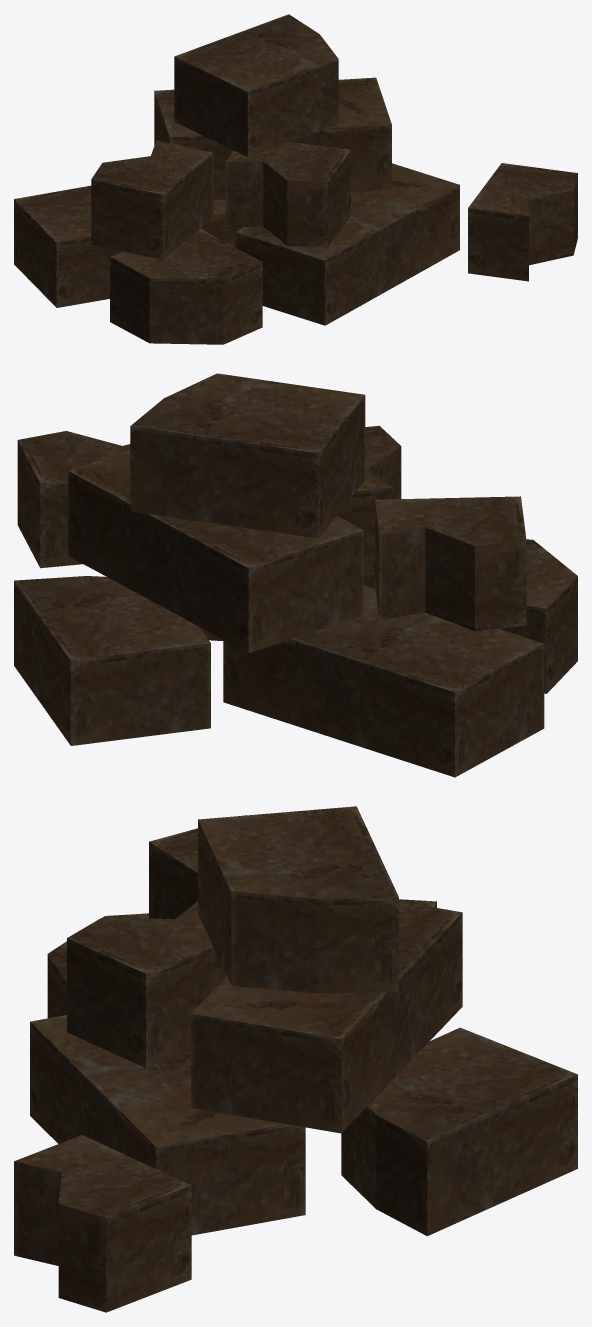
The model's file is bricks_stacked_mx_1_0.glb.
The picture shows the model from 3 angles, top to bottom: view 1: azimuth 30°, elevation 25°; view 2: azimuth 150°, elevation 25°; view 3: azimuth 270°, elevation 25°; orthographic projection. The views are drawn at different scales.
Visible parts, largest first — view 1: bricks_stacked_mx_1_0; view 2: bricks_stacked_mx_1_0; view 3: bricks_stacked_mx_1_0.
Part boxes in pixels (bbox=[...]): bricks_stacked_mx_1_0: bbox=[14, 14, 577, 344]; bricks_stacked_mx_1_0: bbox=[14, 373, 577, 777]; bricks_stacked_mx_1_0: bbox=[14, 806, 577, 1312].
Size of the model in its own units: 0.667 by 0.27 by 0.4878.
1 material, 1 textured.
